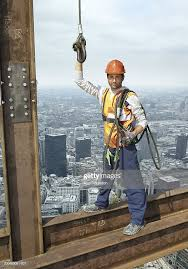hard hat: (104, 59, 126, 74)
high-vis: (101, 88, 134, 147)
